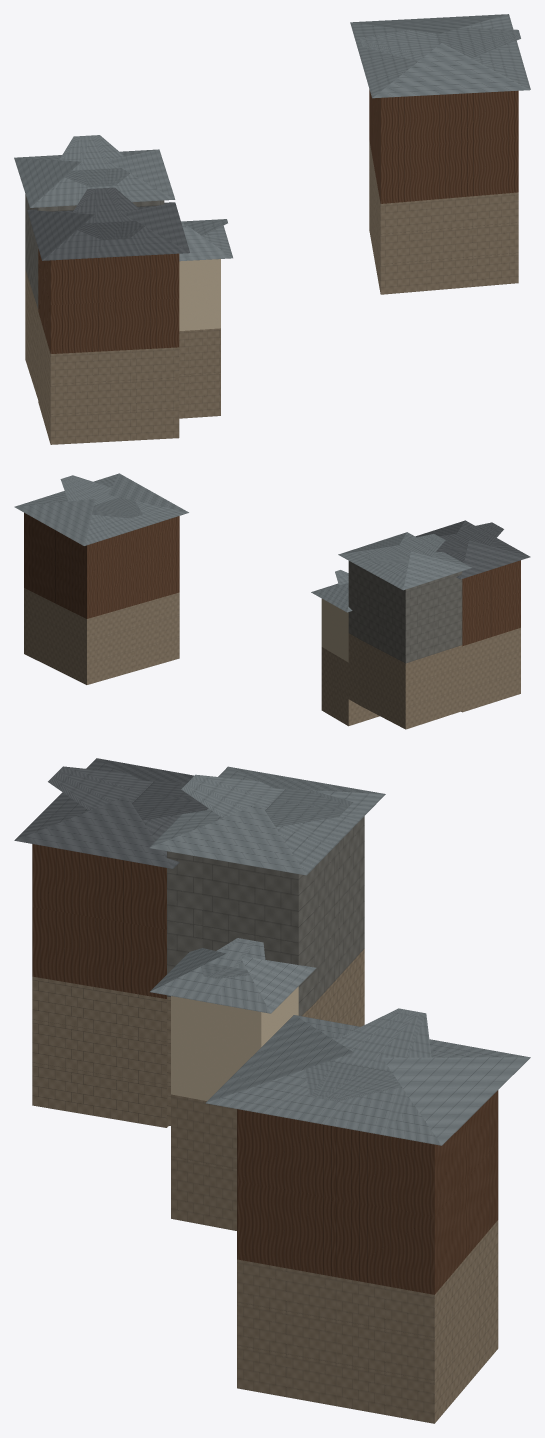
The model's file is bld_c30_-55_522.gltf.
The picture shows the model from 3 angles, top to bottom: view 1: azimuth 30°, elevation 25°; view 2: azimuth 150°, elevation 25°; view 3: azimuth 270°, elevation 25°; orthographic projection. The views are drawn at different scales.
Parts seen in each view (by area): view 1: bld_c30_-55_522; view 2: bld_c30_-55_522; view 3: bld_c30_-55_522.
Part boxes in pixels (box(x1,y1,x2,y2)): bld_c30_-55_522: box(14, 14, 530, 444); bld_c30_-55_522: box(14, 473, 530, 729); bld_c30_-55_522: box(14, 758, 530, 1423).
Bounding box in the file's own units: 34.61 × 14.4 × 18.53.
Materials: 6 (6 with a texture image).
